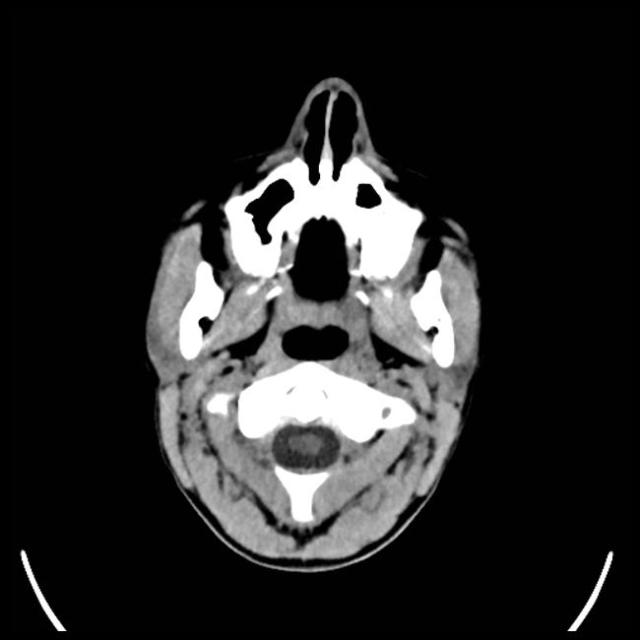lesion: (140, 73, 488, 575)
